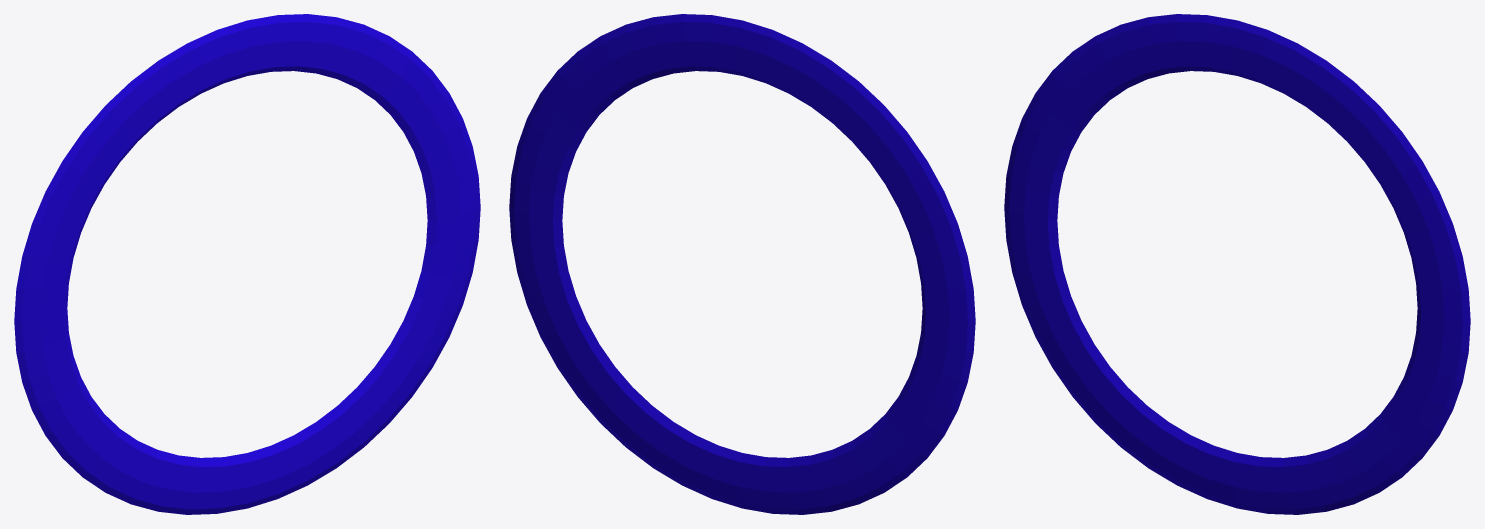
The model's file is wave 2.gltf.
The picture shows the model from 3 angles, left to right: view 1: azimuth 30°, elevation 25°; view 2: azimuth 150°, elevation 25°; view 3: azimuth 330°, elevation 25°; orthographic projection.
Visible parts, largest first — view 1: Torus; view 2: Torus; view 3: Torus.
Boxes of the visible parts, bbox=[...] form: Torus: bbox=[14, 14, 480, 514]; Torus: bbox=[509, 14, 975, 514]; Torus: bbox=[1004, 14, 1470, 514].
Bounding box in the file's own units: 0.3433 × 0.3433 × 0.00881.
